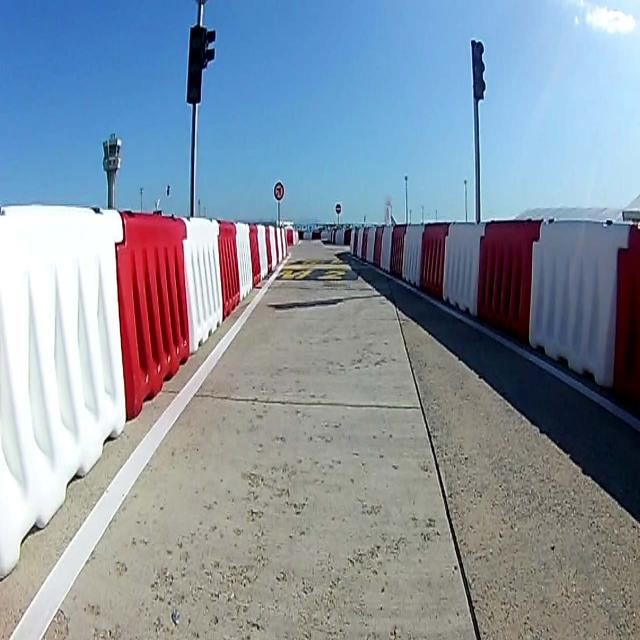soladonulmez: (274, 181, 284, 202)
